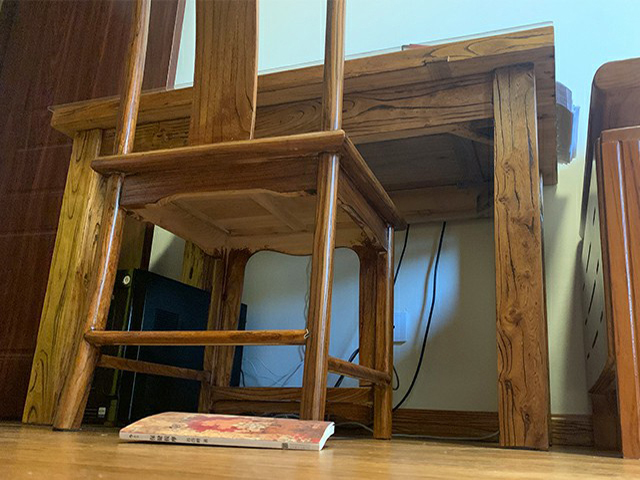book: (118, 411, 336, 452)
stool: (50, 1, 407, 440)
table: (22, 22, 558, 451)
wire: (326, 222, 498, 441)
